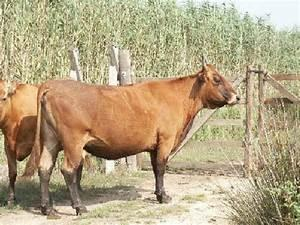cow: (31, 56, 240, 218)
